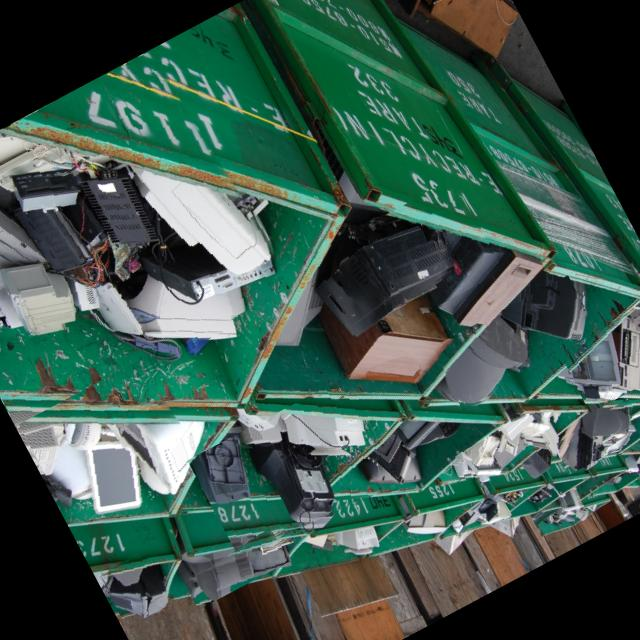Hazard: (0, 140, 266, 356), (198, 421, 373, 519), (17, 422, 194, 513), (331, 217, 494, 315), (451, 281, 581, 398), (573, 303, 640, 392), (457, 414, 559, 471), (188, 543, 288, 596), (563, 411, 636, 470), (98, 573, 168, 619)
